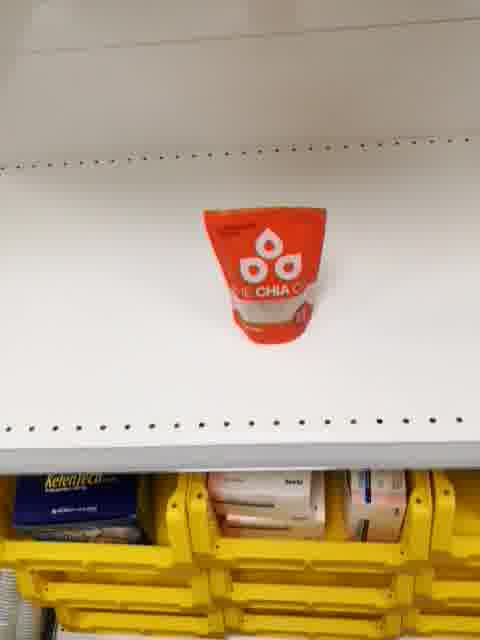whitechia: (202, 205, 330, 346)
